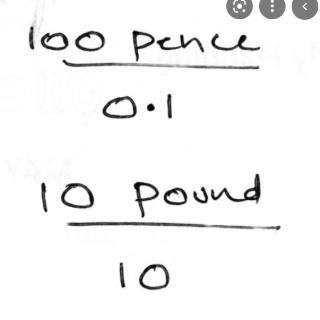.: (143, 100, 158, 114)
0: (101, 96, 136, 120), (40, 30, 71, 53)
1: (163, 91, 175, 121), (27, 26, 36, 54)
